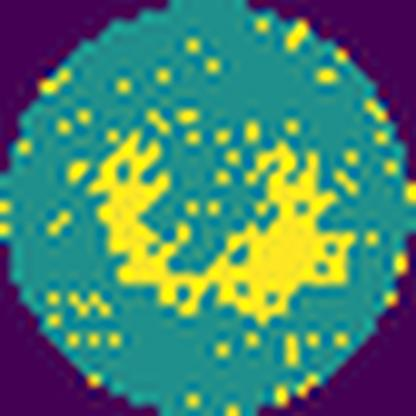Donut: (92, 99, 356, 325)
